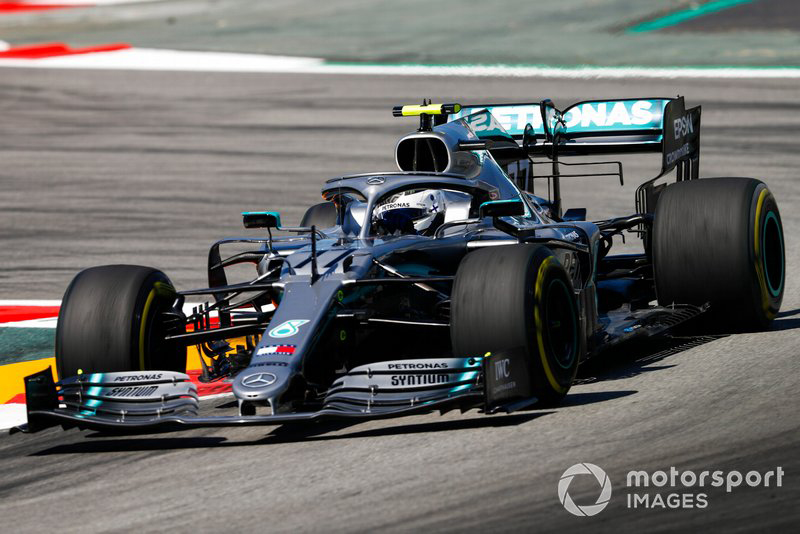F1 Car: (22, 94, 789, 439)
